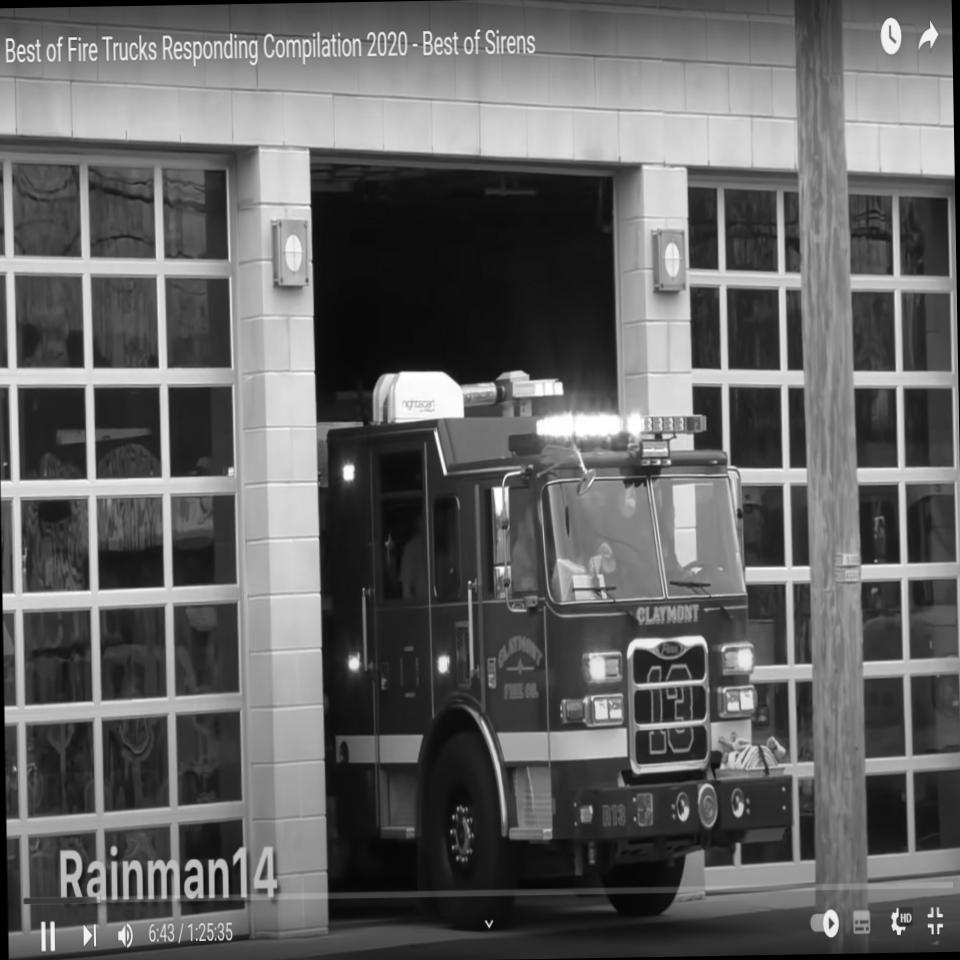viatura: (318, 359, 798, 931)
